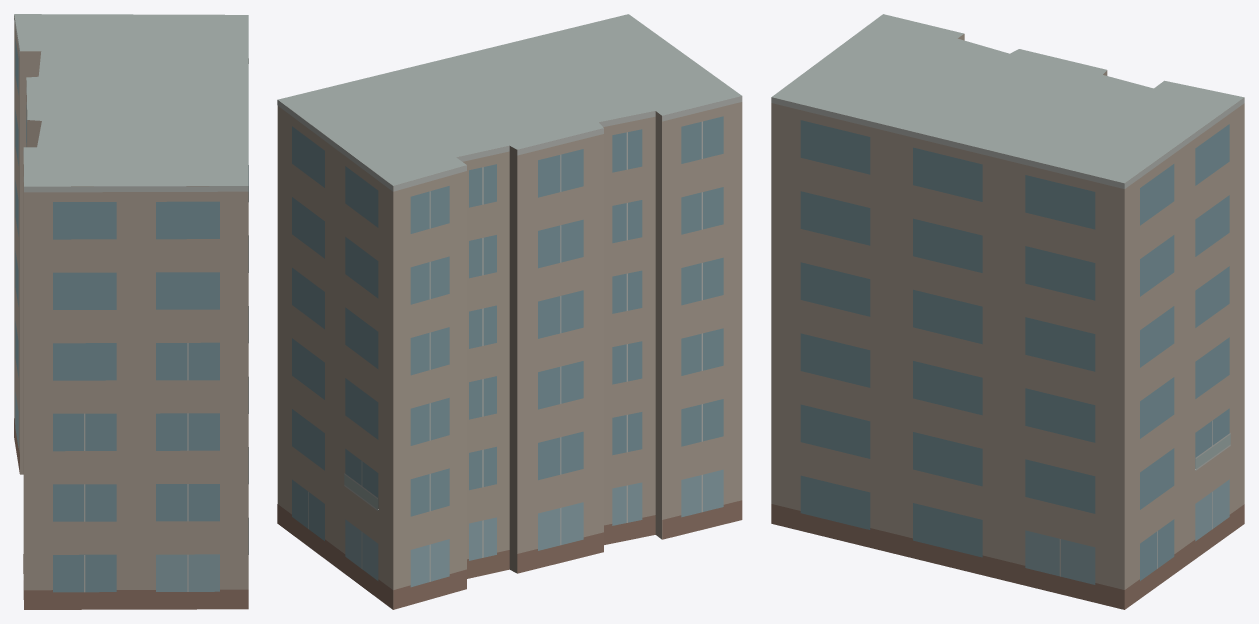
Rendered from survey-upis-32566729.glb.
3 views of the same model, side by side, from view 1: azimuth 30°, elevation 25°; view 2: azimuth 150°, elevation 25°; view 3: azimuth 270°, elevation 25° (orthographic).
Parts seen in each view (by area): view 1: survey-upis-32566729.tmp; view 2: survey-upis-32566729.tmp; view 3: survey-upis-32566729.tmp.
Boxes of the visible parts, bbox=[...] form: survey-upis-32566729.tmp: bbox=[14, 14, 248, 609]; survey-upis-32566729.tmp: bbox=[277, 14, 742, 609]; survey-upis-32566729.tmp: bbox=[771, 14, 1244, 609].
Size of the model in its own units: 15.21 by 17.85 by 17.95.
